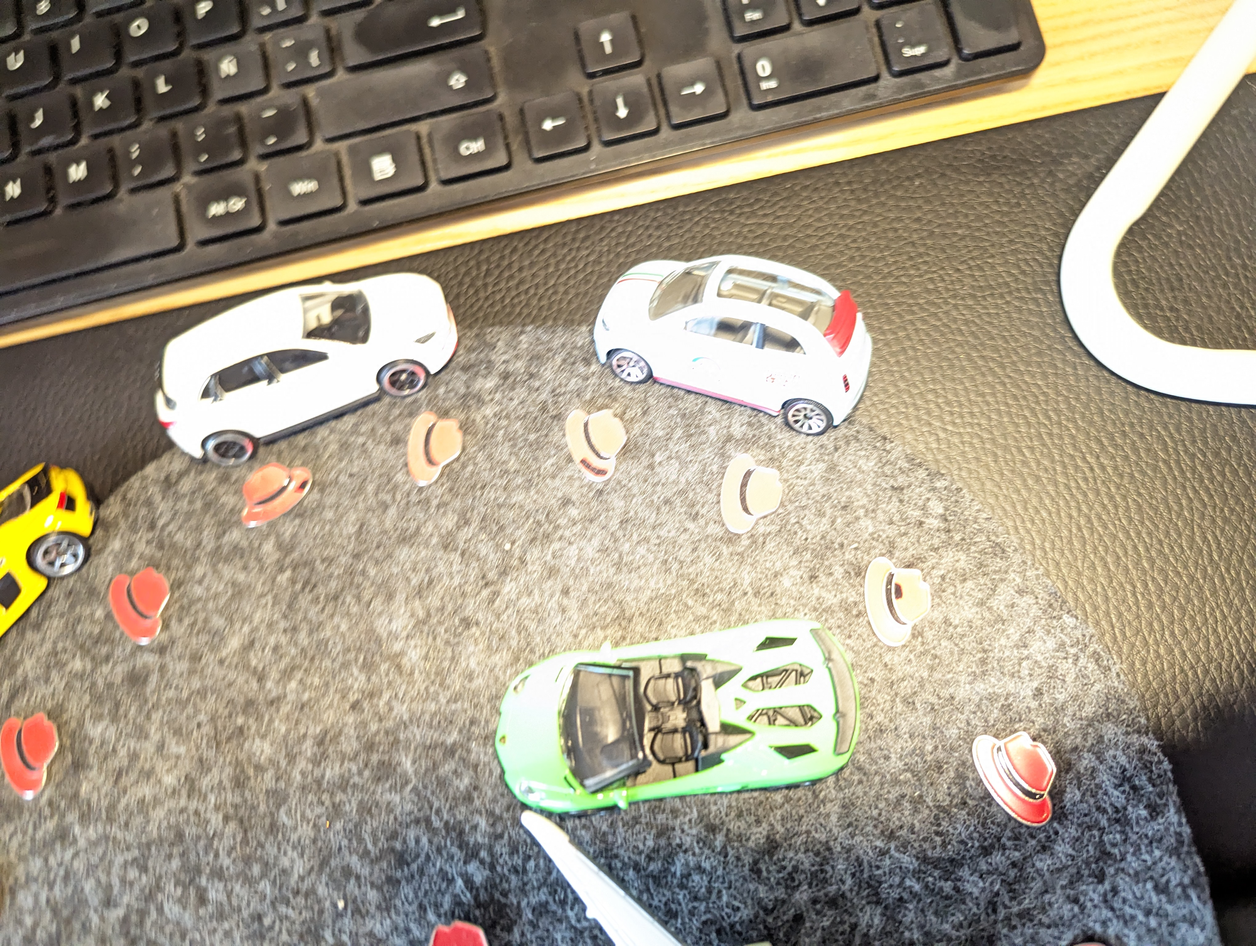Car: (458, 611, 891, 828), (130, 259, 486, 480), (577, 225, 894, 453)
Red-Hat: (958, 708, 1086, 848), (847, 538, 938, 659), (712, 427, 787, 557), (540, 390, 635, 490), (94, 553, 173, 658), (0, 694, 69, 809), (392, 394, 469, 495), (224, 460, 319, 535)
Scratch: (570, 445, 614, 490), (887, 572, 912, 603), (285, 473, 313, 498)
